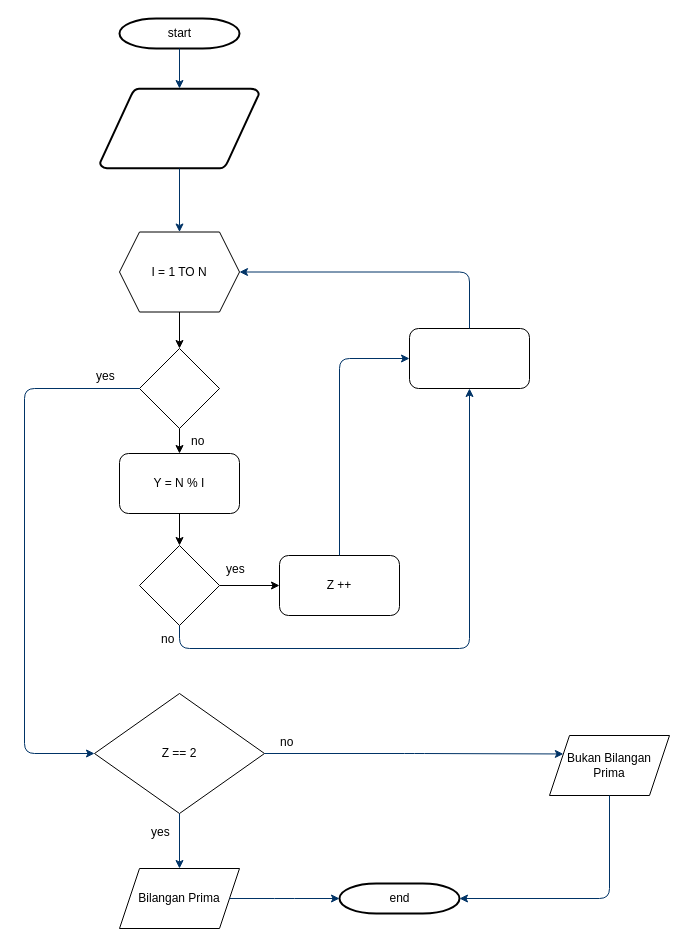
Image size: 687x946. Some labels were removed from this diagram. The centre of each missing label's shape, as x and y in pixels:
"I ++" goes at [469,358].
"I > N" goes at [179,388].
"Input N" goes at [179,128].
"Y == 0" goes at [179,585].
